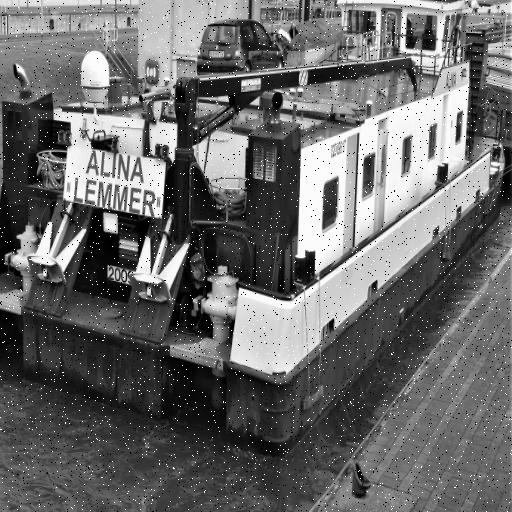tugboat: (1, 1, 509, 463)
